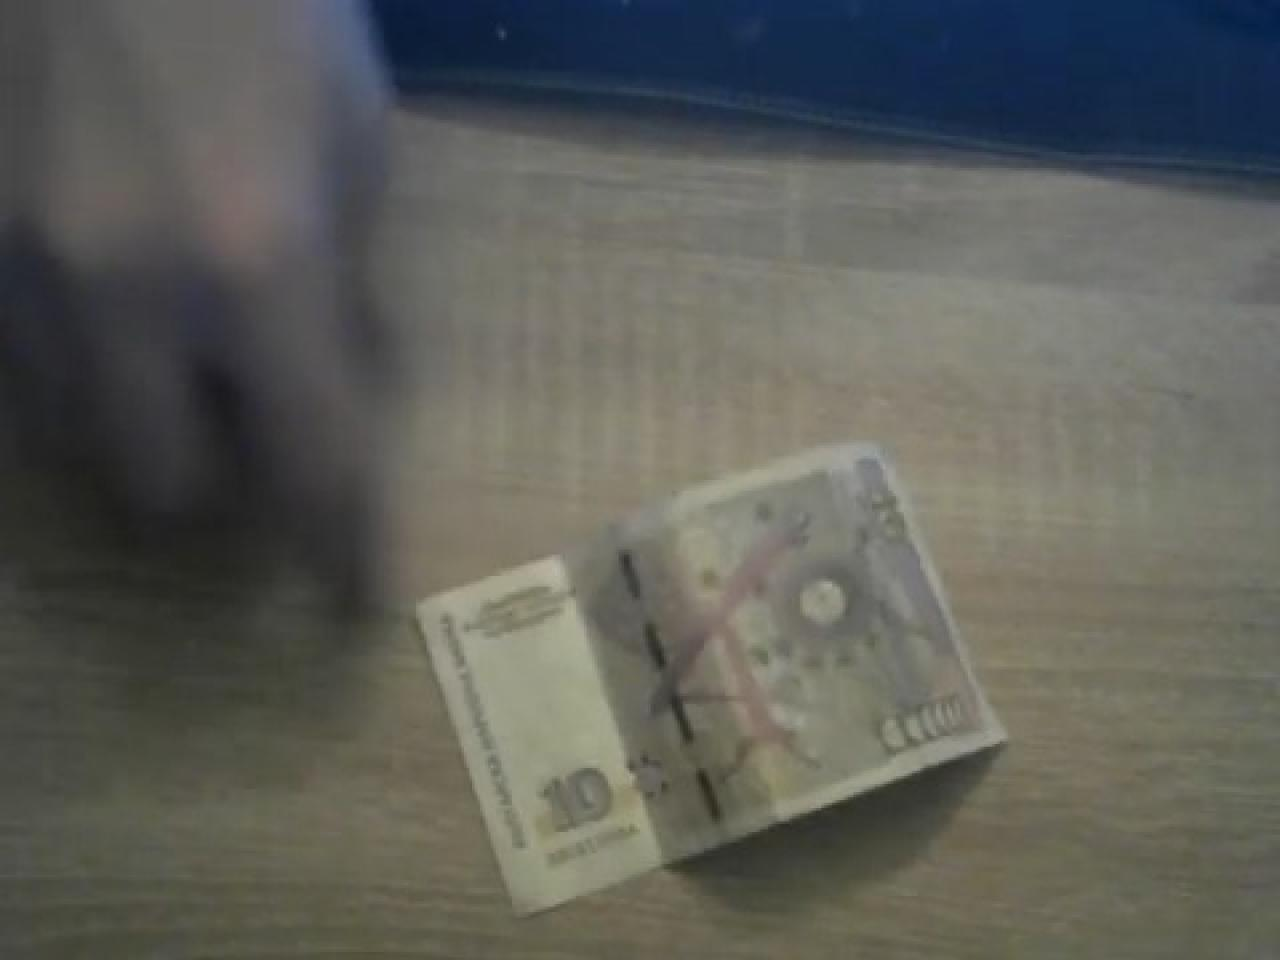10leva: (413, 443, 1008, 920)
